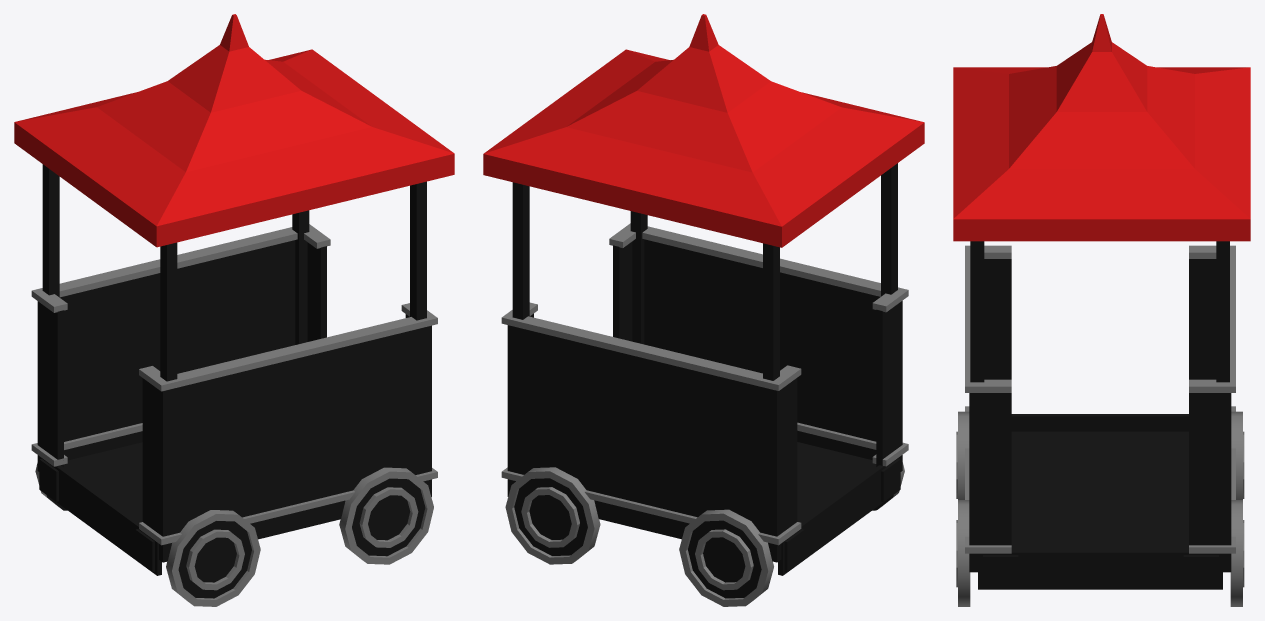
File: SM_wagon_carousel.fbx
3 views of the same model, side by side, from view 1: azimuth 30°, elevation 25°; view 2: azimuth 150°, elevation 25°; view 3: azimuth 270°, elevation 25° (orthographic). The views are drawn at different scales.
Parts seen in each view (by area): view 1: Box104; view 2: Box104; view 3: Box104.
Part boxes in pixels (x1,y1,x2,y2): Box104: [14, 14, 454, 606]; Box104: [483, 14, 924, 606]; Box104: [953, 14, 1250, 606].
Size of the model in its own units: 54.88 by 91.53 by 45.43.
